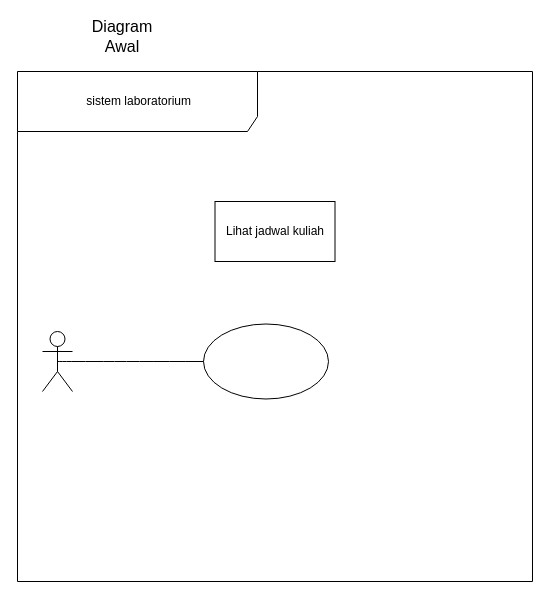
Some shapes in this 550 by 599 pixel diagram are drawn without their labels. The box of each missing label's shape, as (x1, y1, x2, y2) in pixels:
Kelola jadwal kuliah.: (202, 323, 328, 399)
Mahasiswa: (42, 330, 72, 392)
